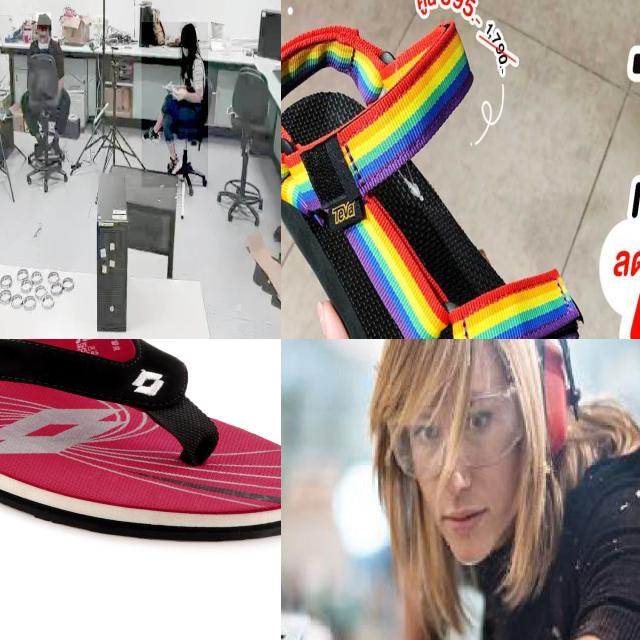Ear-protection: (353, 339, 586, 467)
Sandals: (281, 0, 640, 339), (0, 339, 281, 543)
face_mask: (178, 36, 192, 62)
glasses: (376, 382, 527, 488)
hand_noglove: (173, 86, 187, 100)
head_nohelmet: (359, 339, 584, 583), (180, 22, 197, 36), (36, 12, 52, 26)
person: (336, 339, 640, 640), (142, 22, 208, 188), (17, 3, 71, 166)
shoes: (163, 149, 183, 181), (31, 132, 50, 160), (49, 132, 65, 164), (141, 125, 162, 149)
